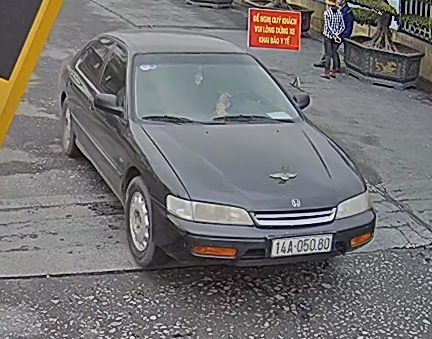vehicle plate: (269, 233, 334, 256)
